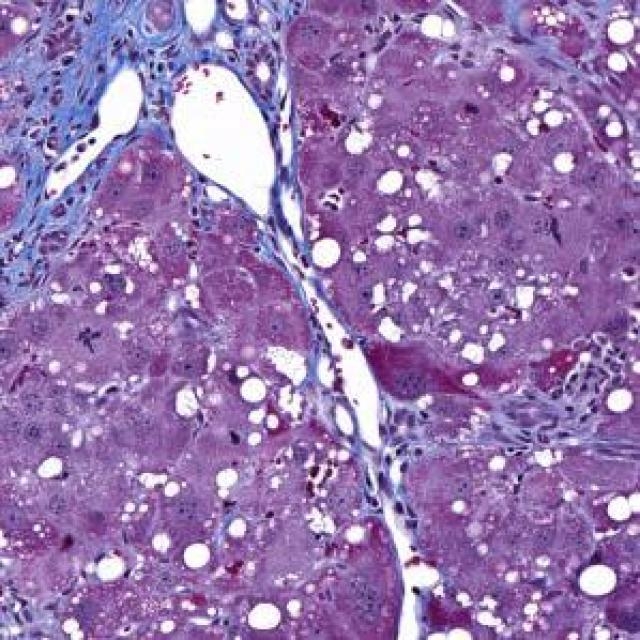fibrosis: (9, 11, 184, 176)
